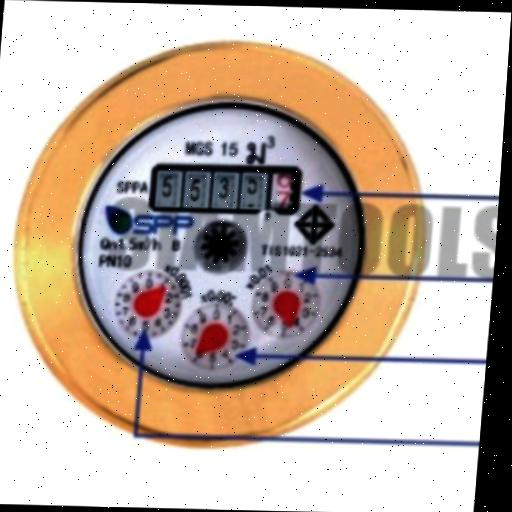3: (215, 174, 234, 207)
5: (156, 173, 177, 206), (185, 174, 205, 207), (242, 176, 262, 208)
6: (271, 172, 294, 209)
border_water_meter_number: (147, 162, 304, 216)
